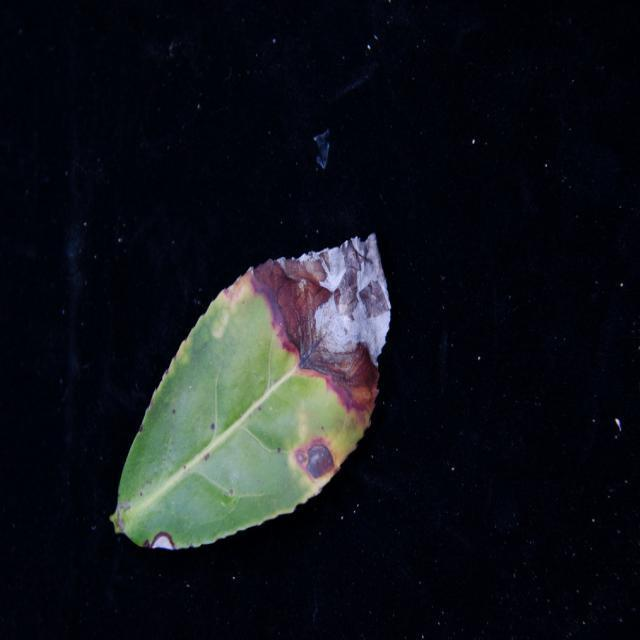Tea cloud leaf blight: (250, 230, 416, 416)
